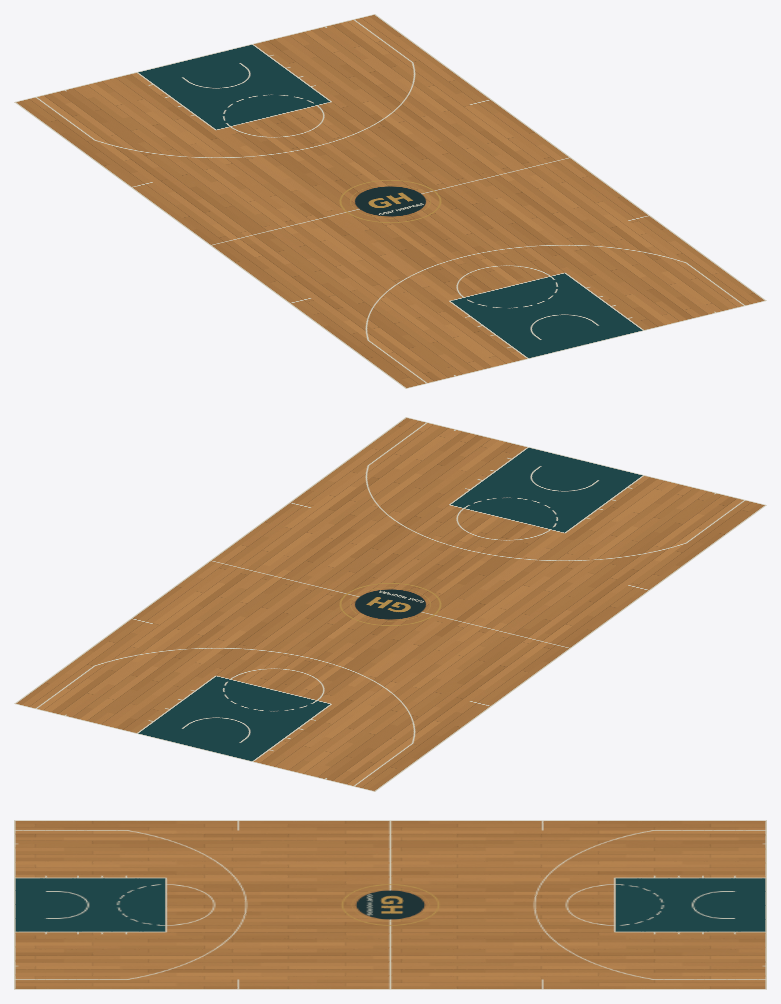
File: GOAT_HOOPERS_Court.glb
3 renders of one model, top to bottom at view 1: azimuth 30°, elevation 25°; view 2: azimuth 150°, elevation 25°; view 3: azimuth 270°, elevation 25°, orthographic. The views are drawn at different scales.
Parts seen in each view (by area): view 1: GOAT_HOOPERS_Court; view 2: GOAT_HOOPERS_Court; view 3: GOAT_HOOPERS_Court.
Boxes of the visible parts, box(x1,y1,x2,y2) form: GOAT_HOOPERS_Court: box(14, 14, 766, 388); GOAT_HOOPERS_Court: box(14, 417, 766, 791); GOAT_HOOPERS_Court: box(14, 820, 766, 989).
Bounding box in the file's own units: 15.24 × 0 × 28.65.
Materials: 1 (1 with a texture image).
